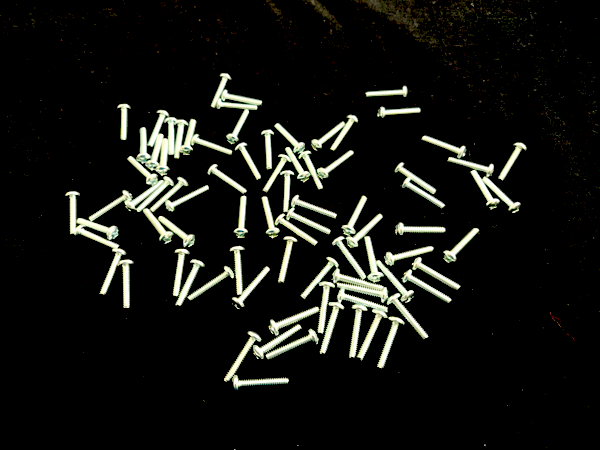longscrew: (224, 330, 264, 384), (386, 293, 430, 341), (252, 323, 303, 362), (188, 265, 236, 304), (401, 269, 453, 305), (265, 328, 320, 362), (375, 260, 417, 304), (231, 266, 271, 311), (411, 257, 462, 292), (356, 309, 389, 362), (300, 257, 340, 300), (331, 235, 368, 281), (268, 305, 321, 337), (399, 177, 447, 211), (175, 258, 207, 309), (376, 317, 406, 370), (274, 213, 319, 248), (98, 248, 129, 298), (89, 189, 134, 223), (482, 177, 523, 214), (319, 302, 347, 356), (393, 162, 437, 196), (442, 227, 481, 265), (136, 176, 175, 214), (150, 177, 191, 213), (345, 213, 384, 250), (124, 179, 165, 213), (285, 208, 333, 237), (165, 184, 211, 214), (207, 164, 248, 197), (470, 170, 502, 212), (331, 268, 386, 292), (291, 194, 339, 221), (158, 215, 197, 248), (336, 289, 389, 313), (232, 375, 291, 396), (262, 154, 292, 195), (275, 236, 300, 285), (142, 208, 175, 245), (347, 305, 369, 360), (329, 115, 360, 154), (498, 142, 528, 182), (298, 149, 325, 193), (317, 150, 355, 181), (74, 225, 121, 250), (384, 245, 435, 268), (235, 142, 263, 183), (337, 282, 389, 304), (342, 195, 369, 237), (274, 122, 307, 155), (126, 155, 160, 187), (311, 121, 346, 152), (421, 136, 468, 159), (317, 281, 337, 335), (446, 156, 495, 178), (363, 236, 385, 284), (116, 259, 136, 311), (190, 134, 234, 157), (172, 248, 192, 298), (285, 147, 312, 184), (77, 218, 120, 241), (229, 246, 248, 297), (260, 196, 281, 240), (226, 109, 251, 145), (209, 73, 233, 110), (395, 222, 447, 239), (148, 109, 170, 149), (221, 89, 264, 108), (65, 190, 82, 236), (145, 133, 165, 171), (377, 105, 422, 121), (280, 170, 296, 214), (180, 119, 198, 157), (173, 118, 189, 160), (365, 85, 409, 100), (116, 103, 132, 144), (233, 196, 248, 239), (216, 98, 259, 113), (262, 129, 276, 171), (164, 116, 178, 157), (136, 126, 151, 164), (156, 138, 171, 176)
